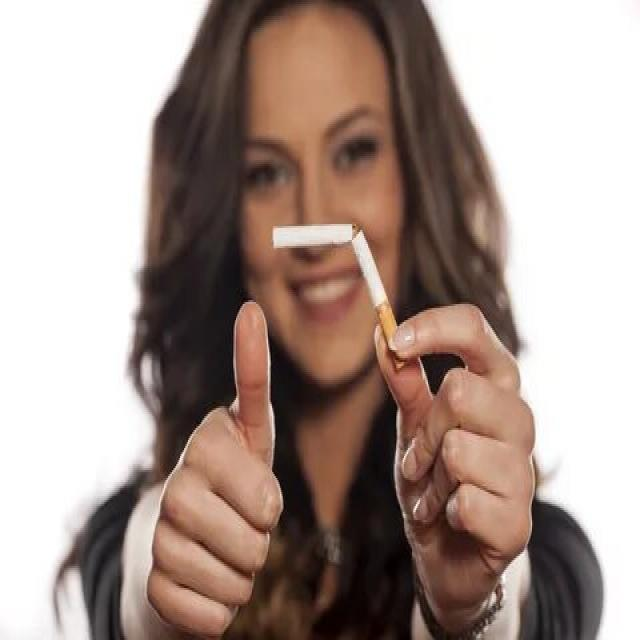smoke: (353, 224, 427, 380), (265, 214, 351, 262)
